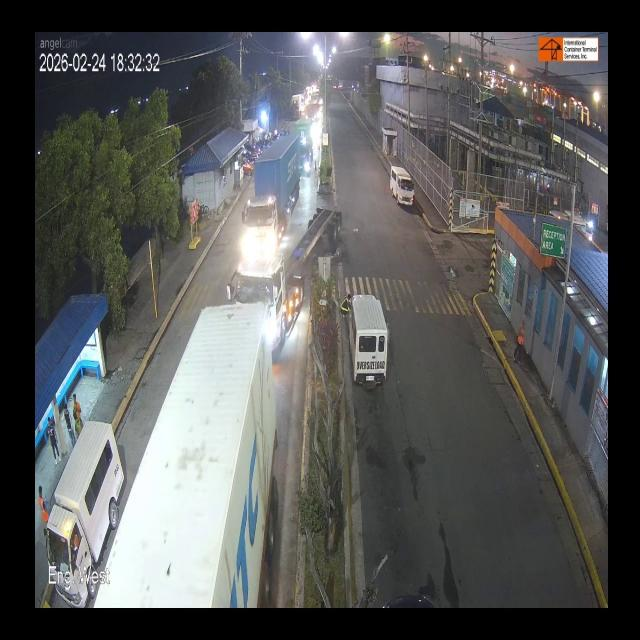car: (48, 442, 122, 588), (352, 292, 392, 396), (390, 163, 418, 215)
truck: (96, 310, 286, 600), (234, 211, 344, 363), (240, 137, 303, 258)
